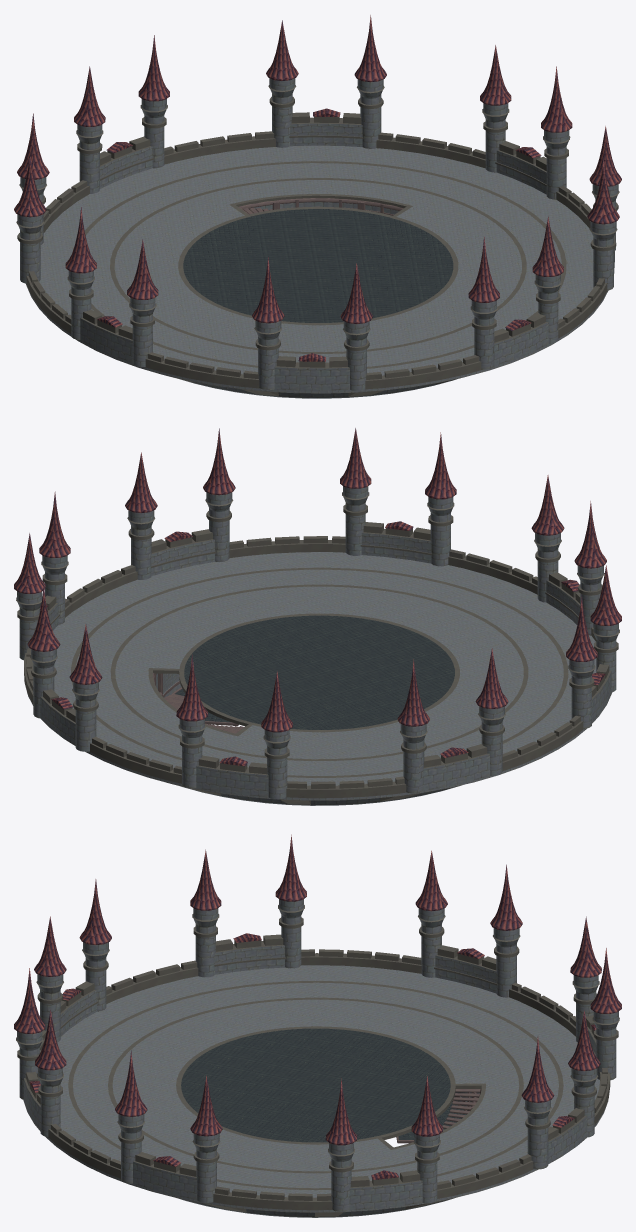
Rendered from TowerTopAlt.fbx.
3 views of the same model, one above another, from view 1: azimuth 30°, elevation 25°; view 2: azimuth 150°, elevation 25°; view 3: azimuth 270°, elevation 25° (orthographic).
Visible parts, largest first — view 1: TowerTopFloorFinal; view 2: TowerTopFloorFinal; view 3: TowerTopFloorFinal.
Part boxes in pixels (x1=…): TowerTopFloorFinal: x1=14, y1=15, x2=621, y2=398; TowerTopFloorFinal: x1=14, y1=428, x2=621, y2=805; TowerTopFloorFinal: x1=14, y1=834, x2=621, y2=1217.
Bounding box in the file's own units: 8789 × 2985 × 8793.
